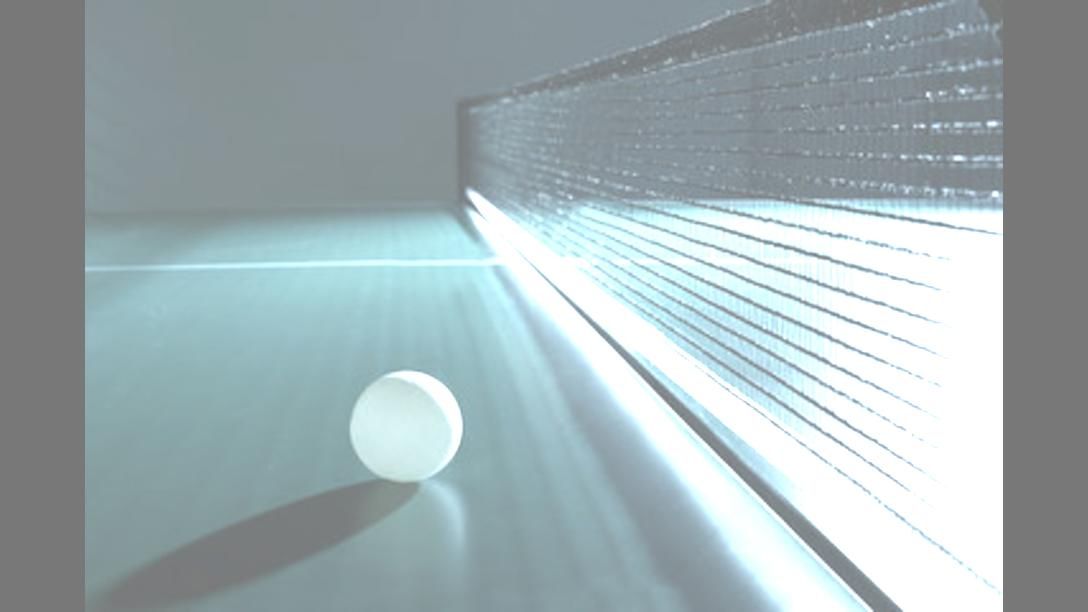Table-Tennis-Ball: (350, 371, 460, 479)
